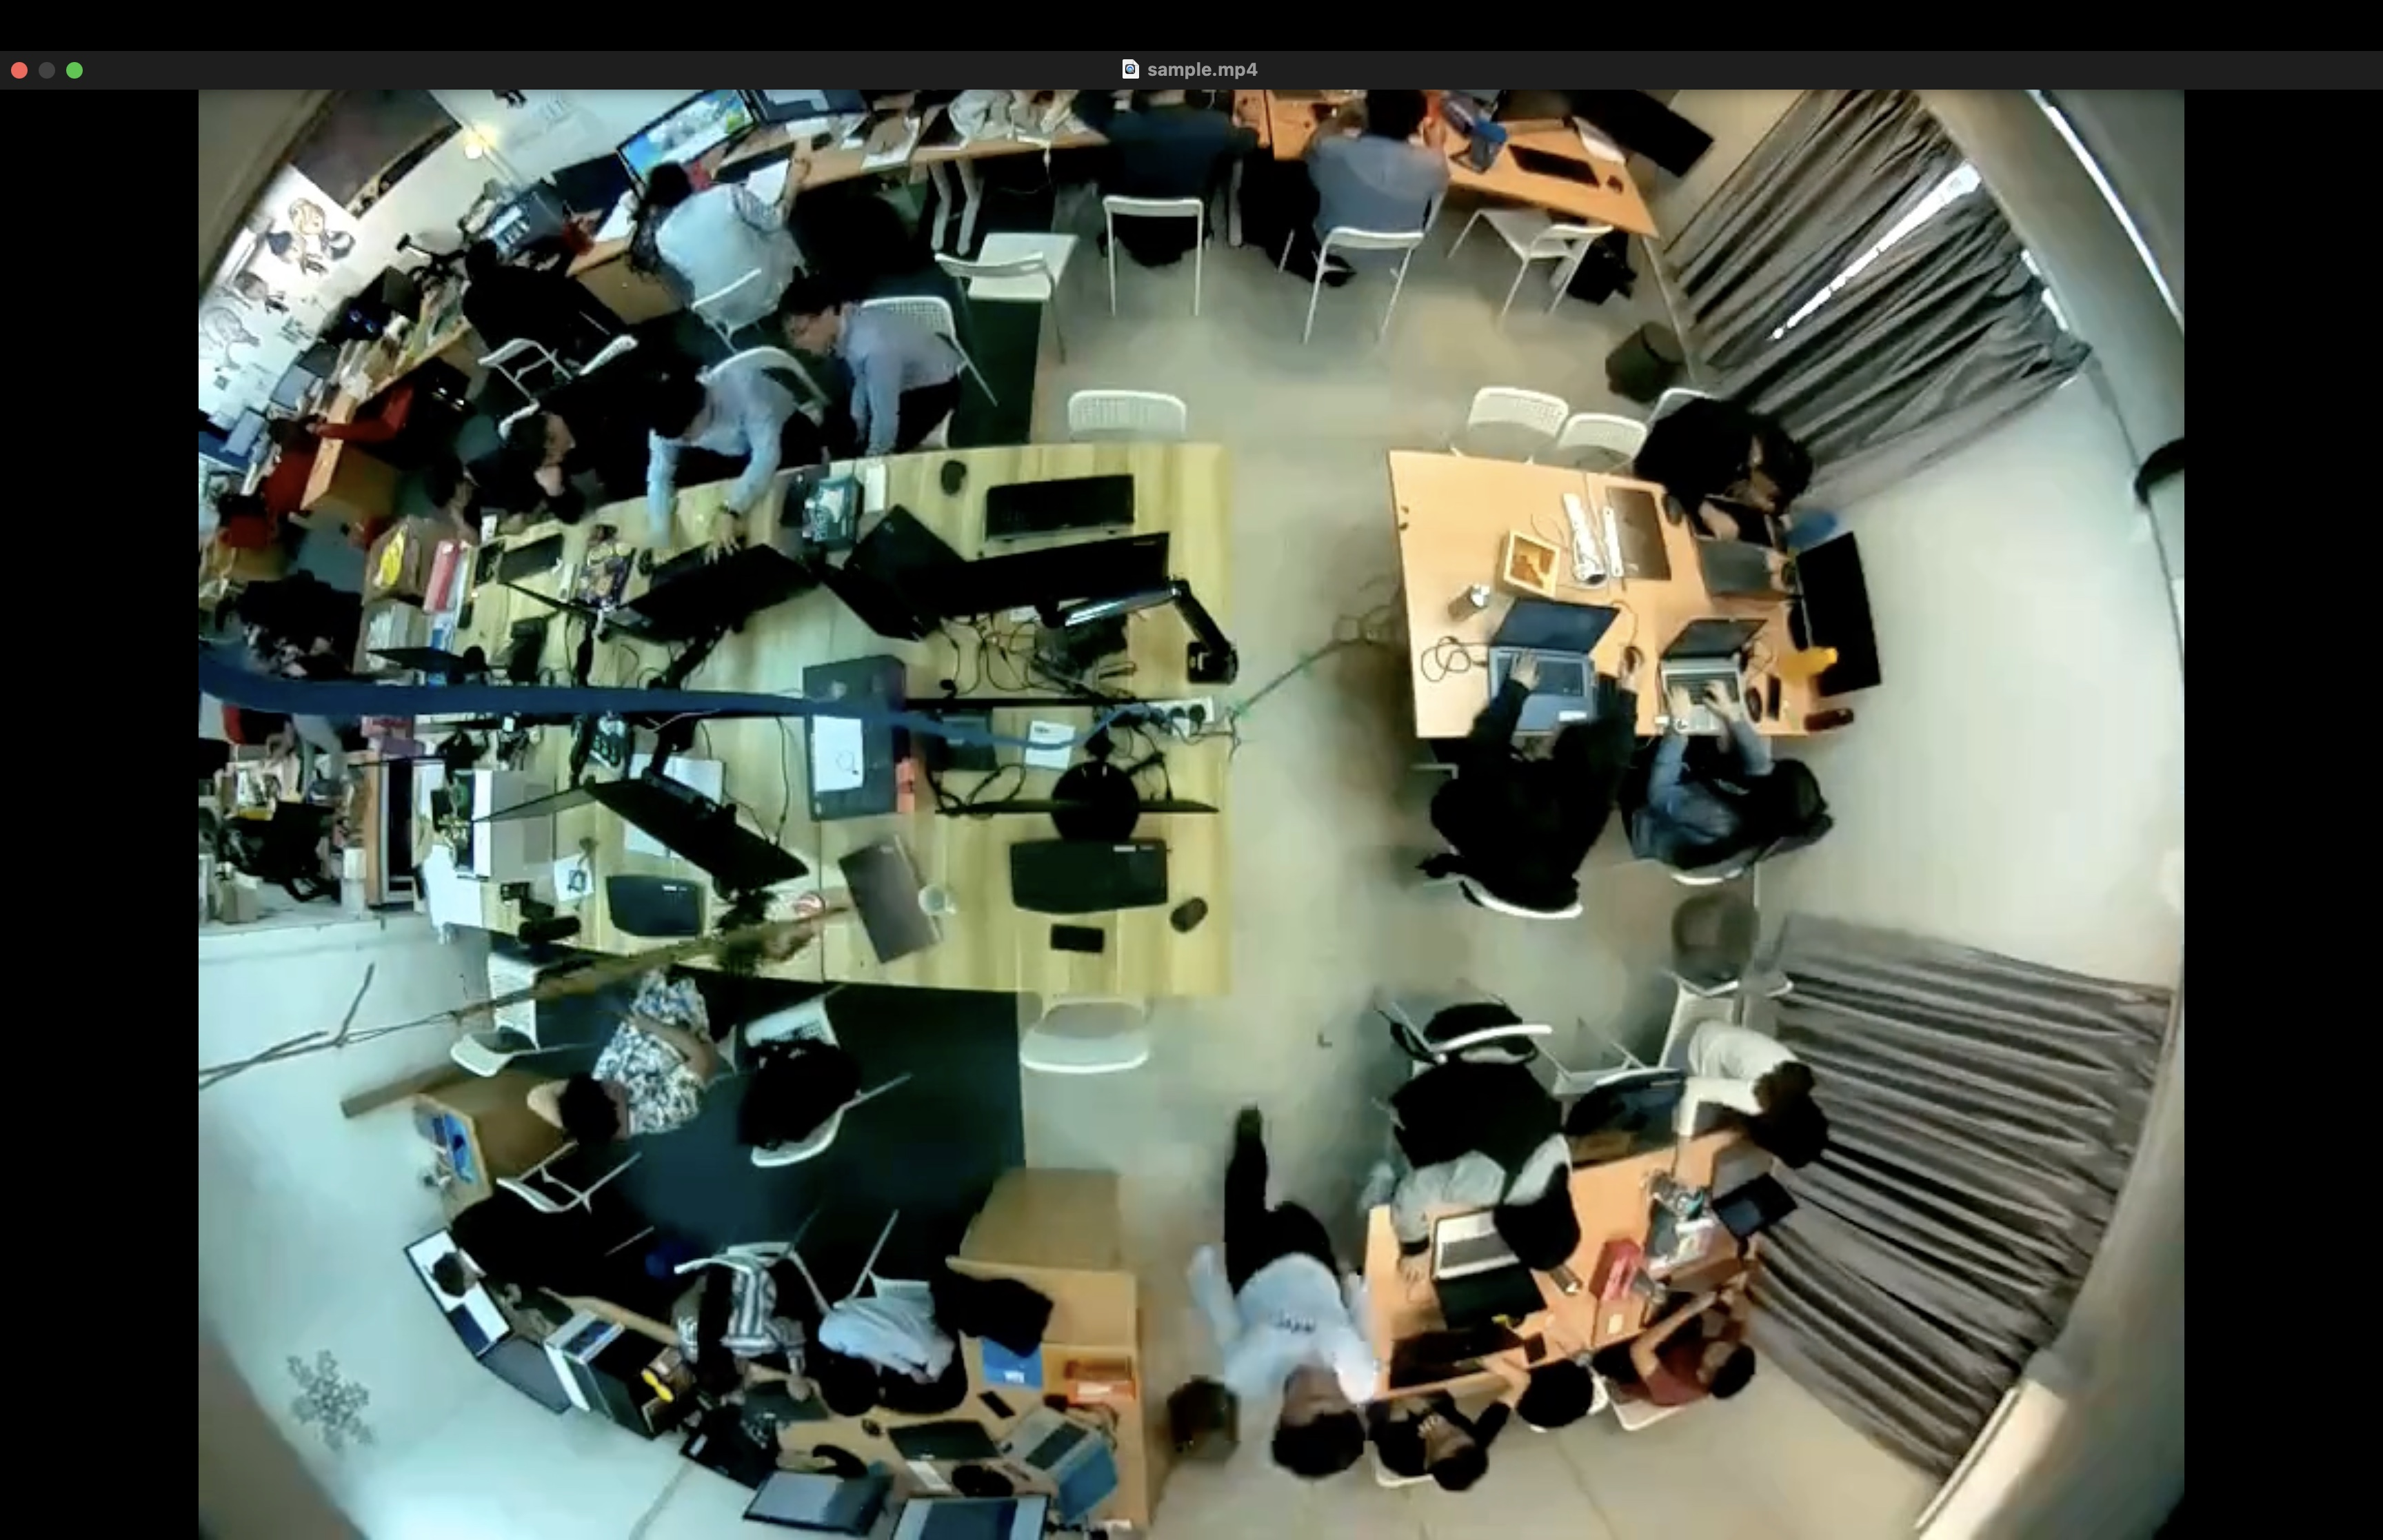Staff: (1174, 1106, 1398, 1486)
